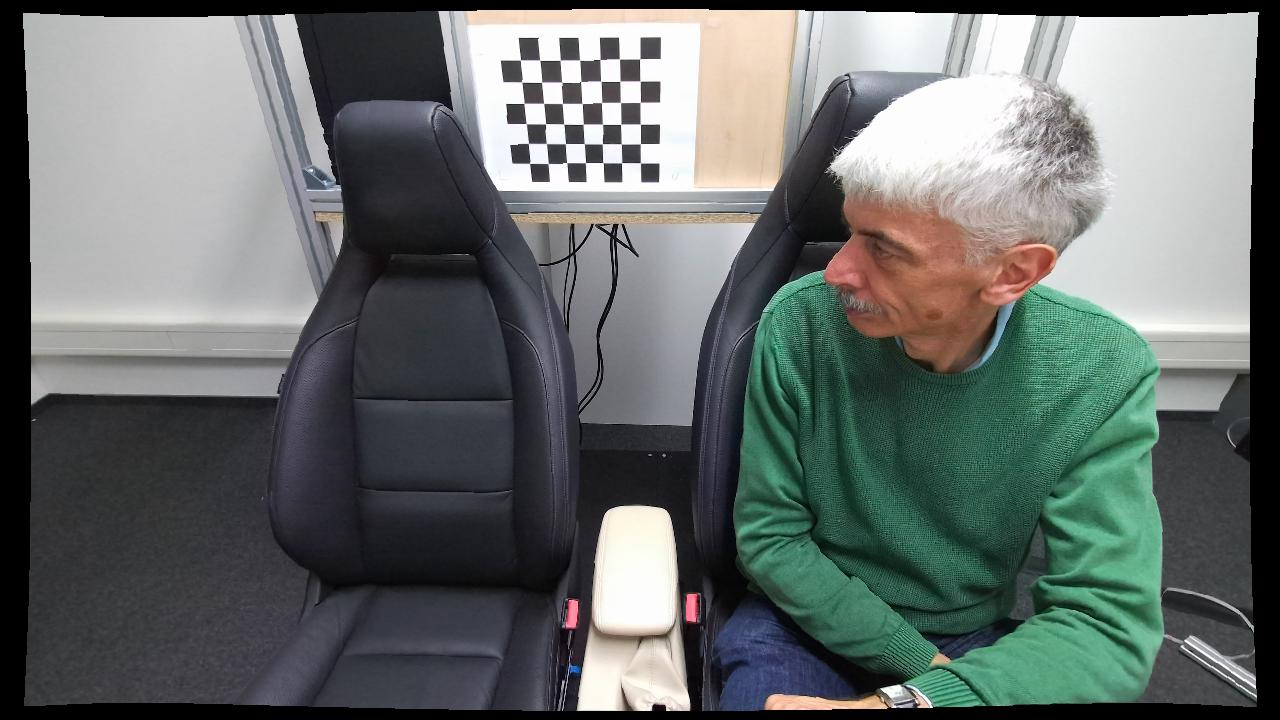Distracted: (715, 63, 1163, 711)
